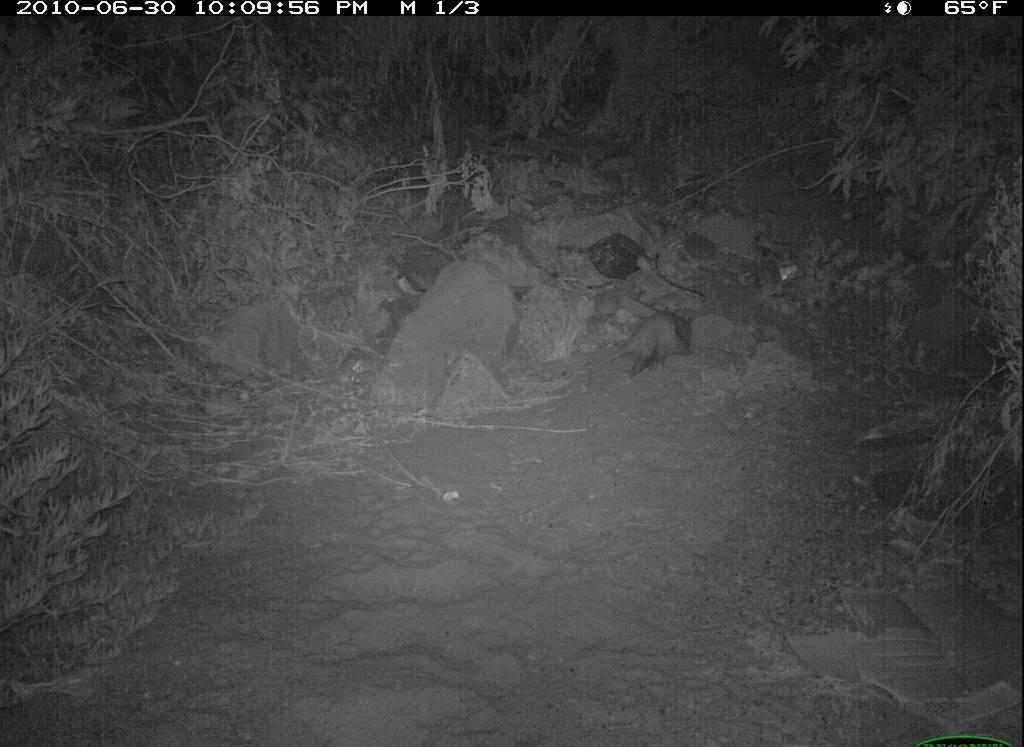opossum: (590, 308, 700, 380)
